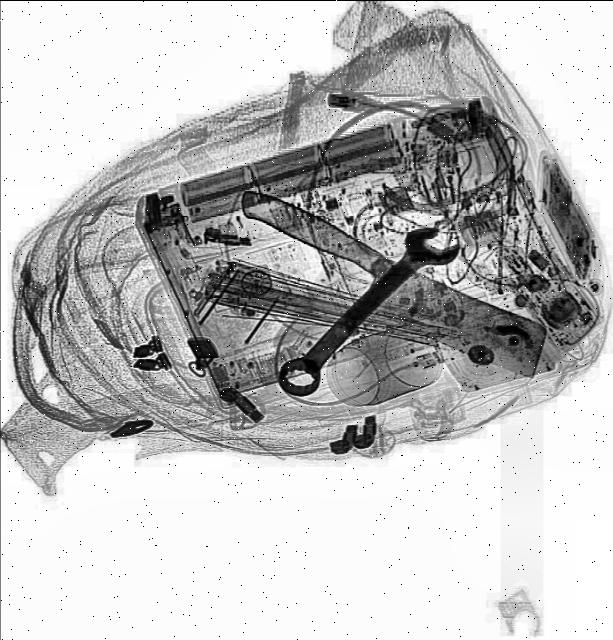Knife: (218, 184, 564, 380)
Wrench: (262, 211, 466, 405)
